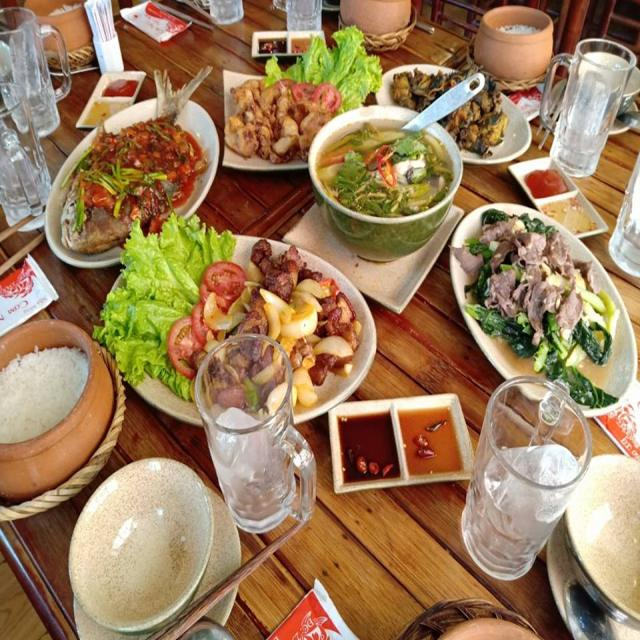bo luc lac: (128, 248, 357, 395)
ca nuong: (57, 94, 204, 247)
com trang: (0, 325, 101, 464), (474, 0, 554, 41)
long xao: (462, 215, 600, 355)
